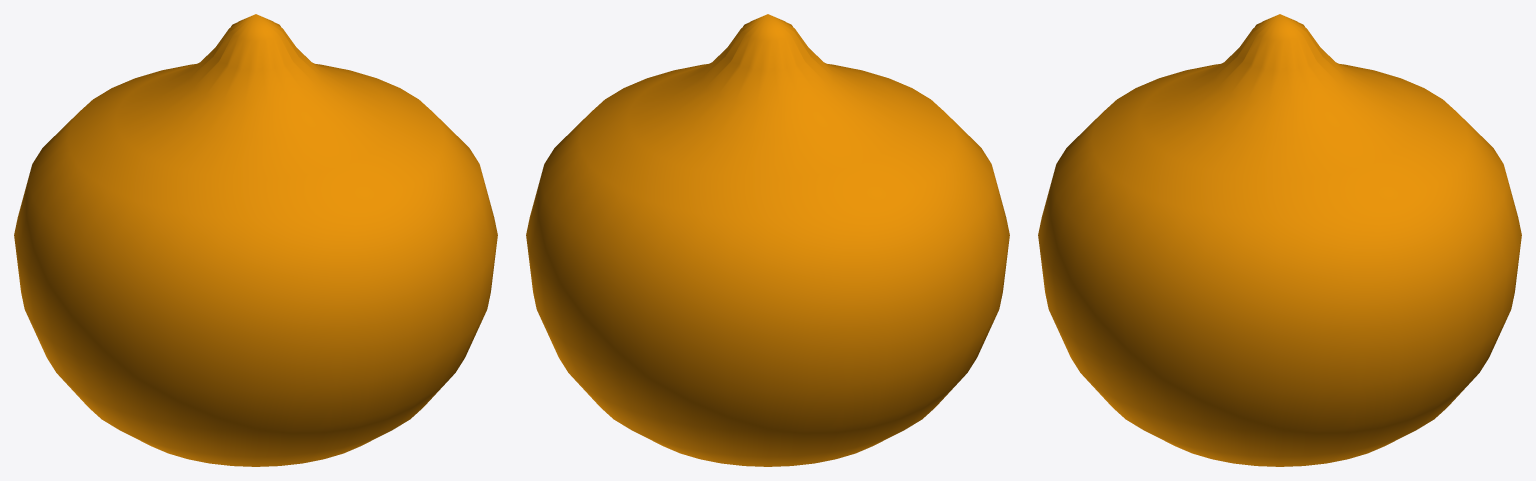
Rendered from Cebolla.fbx.
3 renders of one model, left to right at view 1: azimuth 30°, elevation 25°; view 2: azimuth 150°, elevation 25°; view 3: azimuth 270°, elevation 25°, orthographic.
Visible parts, largest first — view 1: Cylinder.005; view 2: Cylinder.005; view 3: Cylinder.005.
Boxes of the visible parts, x1,y1,x2,y2 form: Cylinder.005: (14, 14, 497, 466); Cylinder.005: (526, 14, 1009, 466); Cylinder.005: (1038, 14, 1521, 466).
Size of the model in its own units: 23.71 by 22.94 by 23.71.
